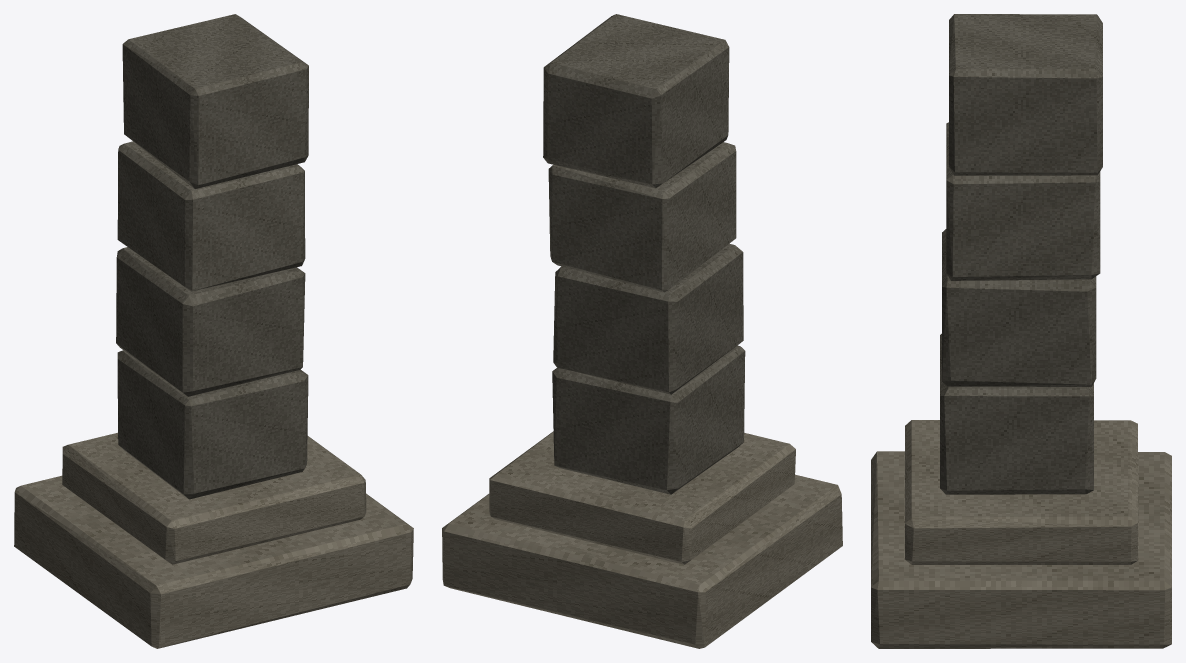
The model's file is env_ruin_pillars_05_stepped_base.glb.
3 renders of one model, left to right at view 1: azimuth 30°, elevation 25°; view 2: azimuth 150°, elevation 25°; view 3: azimuth 270°, elevation 25°, orthographic. The views are drawn at different scales.
Size of the model in its own units: 0.85 by 1.6 by 0.8.
Materials: 1 (1 with a texture image).
